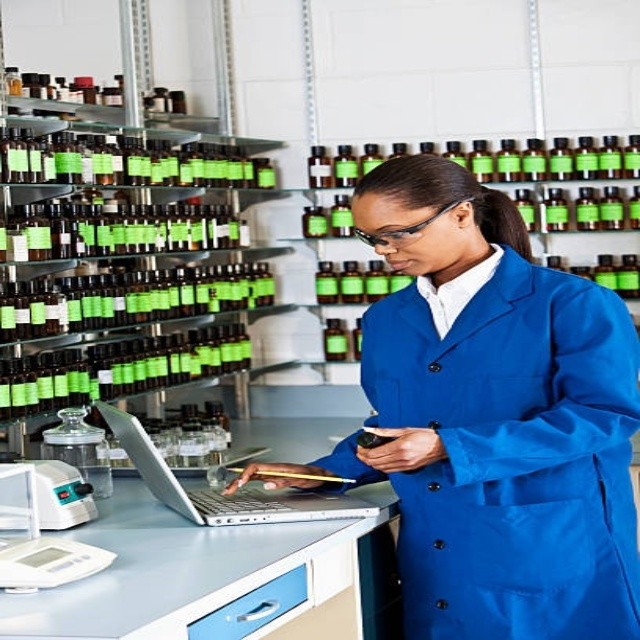Gafas: (352, 196, 470, 248)
Sin_guantes: (355, 418, 435, 476), (226, 462, 331, 495)
Sin_mascara: (386, 255, 428, 278)
